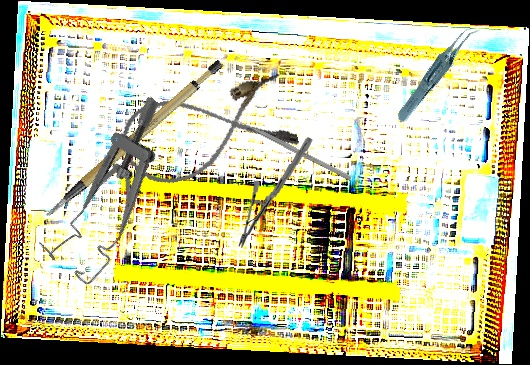Cannula: (115, 70, 301, 193)
Needle Holder: (236, 132, 314, 253)
Pusher: (228, 114, 352, 181)
Scalpel Handle: (23, 56, 241, 219)
Speculum: (25, 94, 210, 289)
Tissue Forceps: (380, 23, 497, 124)
